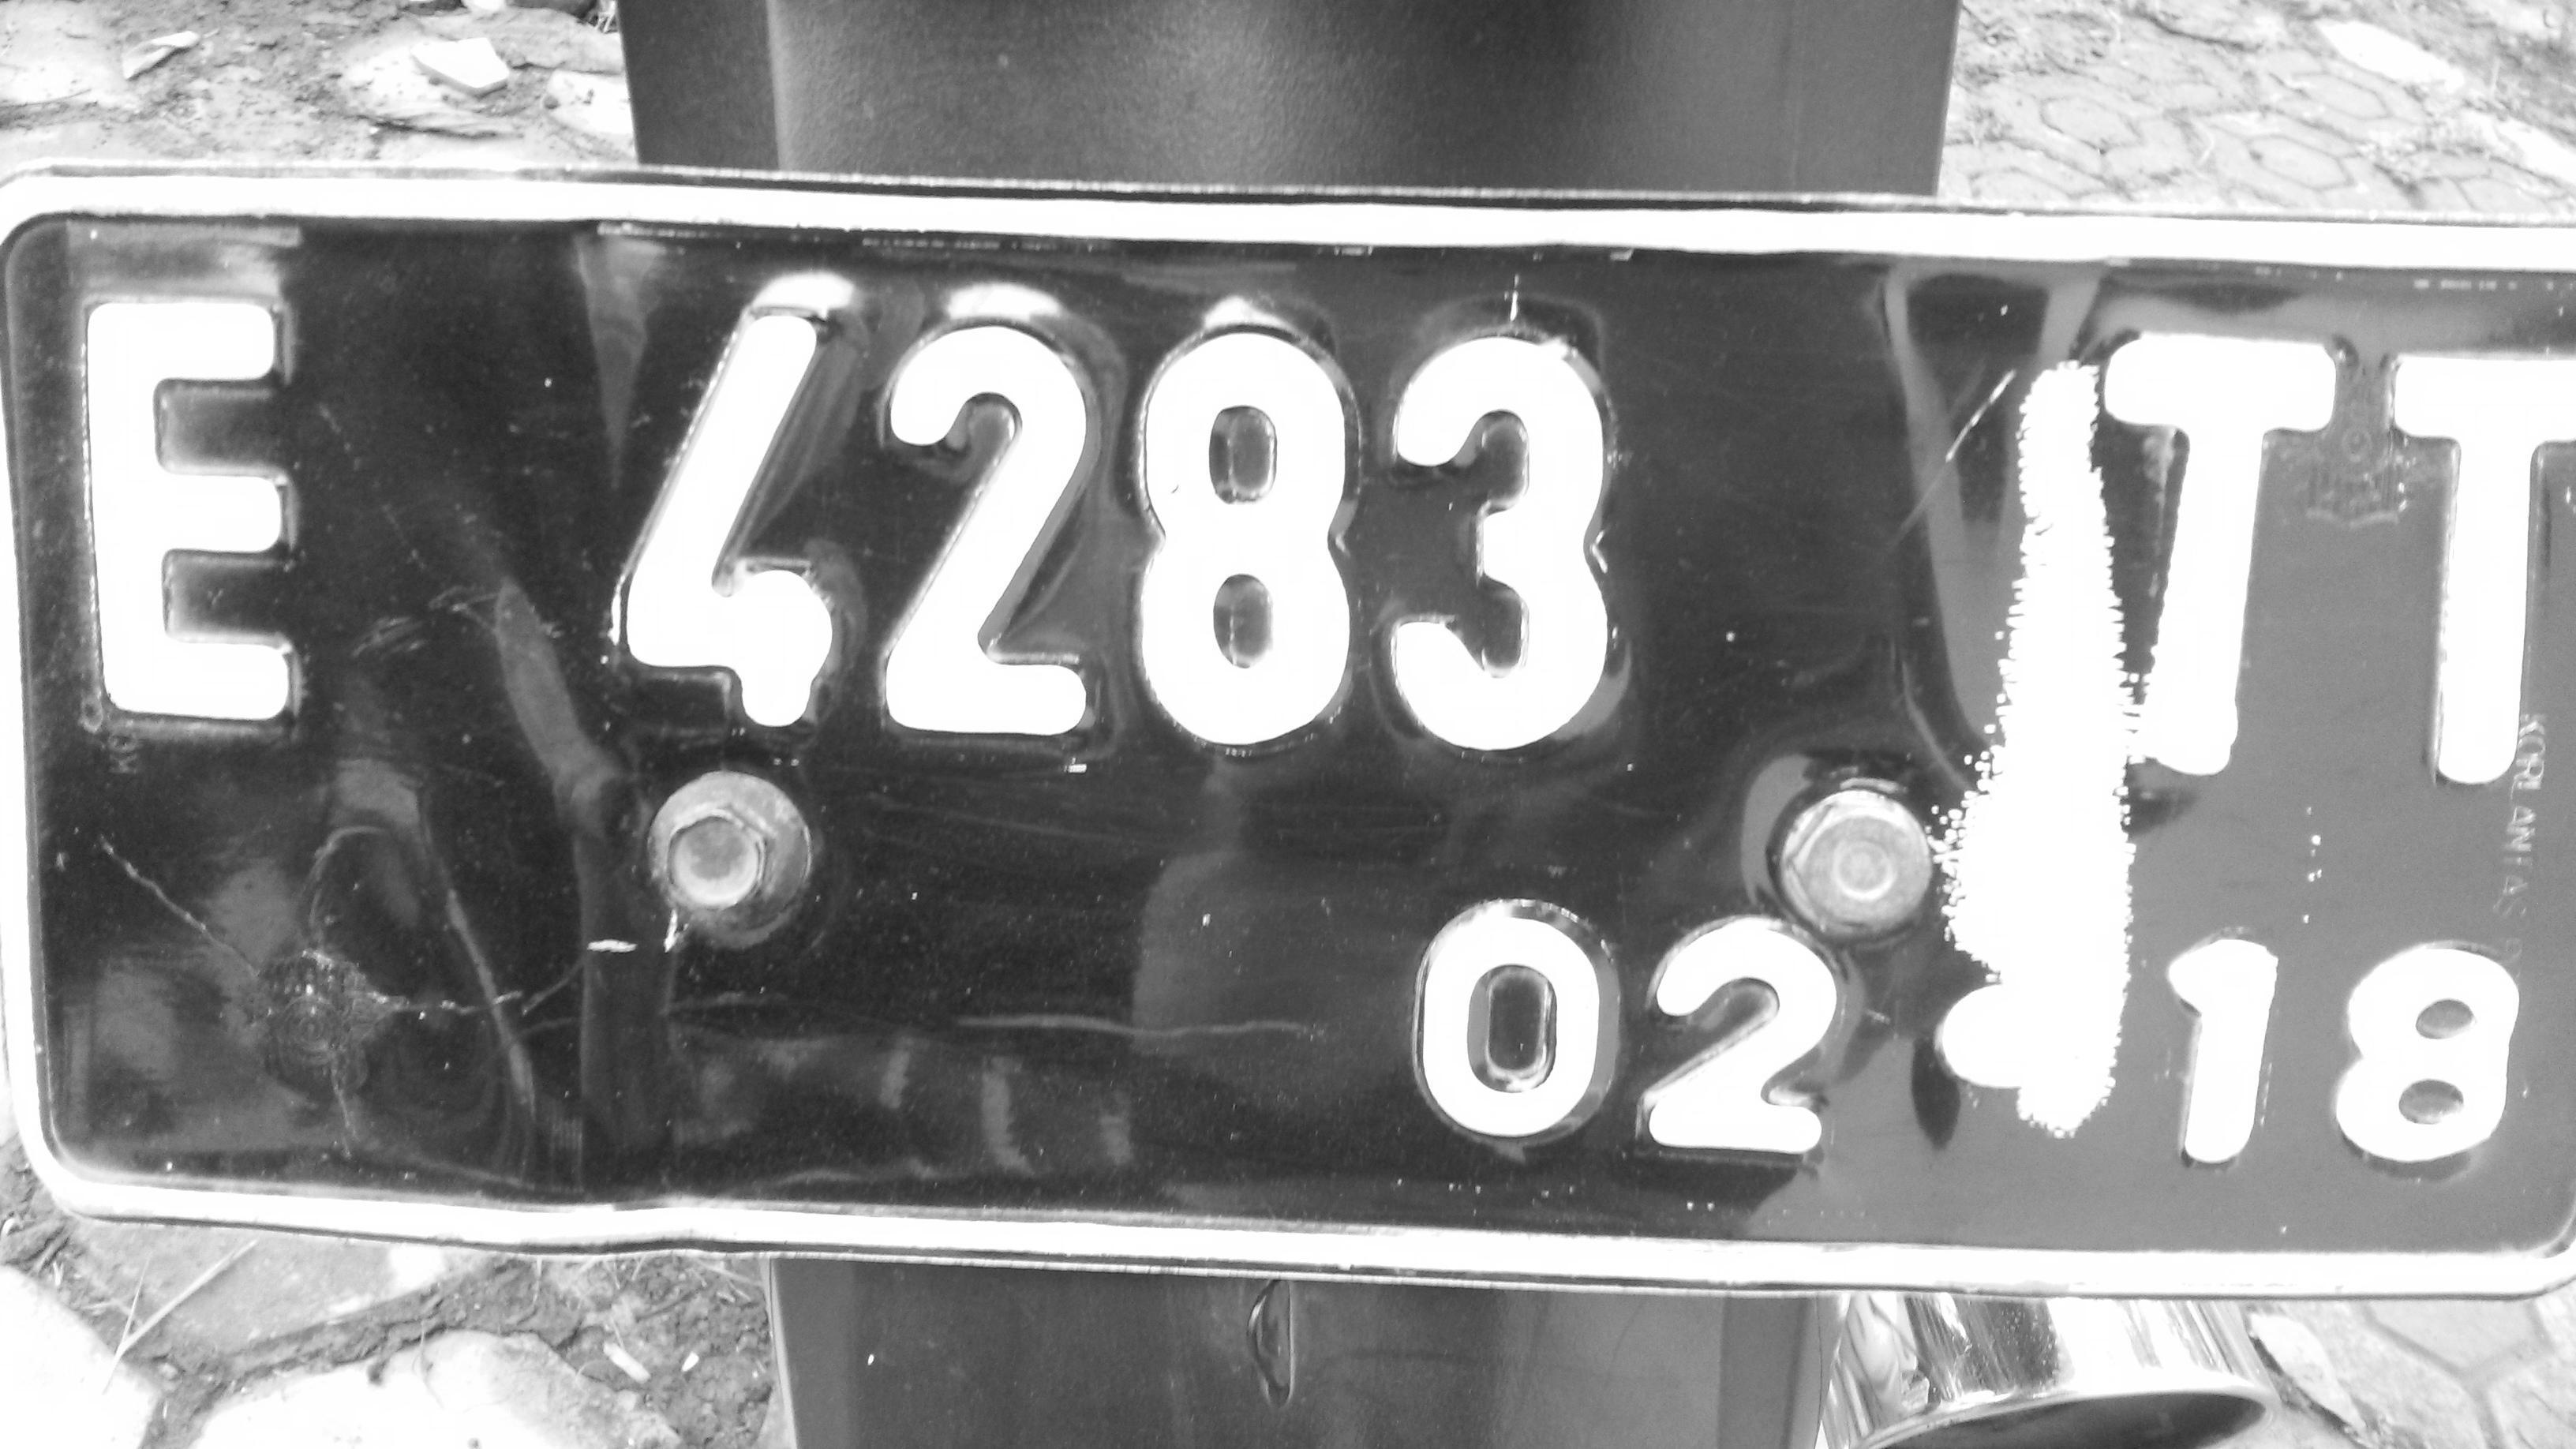1: (2365, 329, 2576, 800)
2: (840, 288, 1129, 761)
3: (1361, 303, 1654, 780)
4: (587, 251, 870, 766)
8: (1104, 297, 1362, 770)
E: (39, 246, 375, 789)
T: (2098, 303, 2360, 812)
